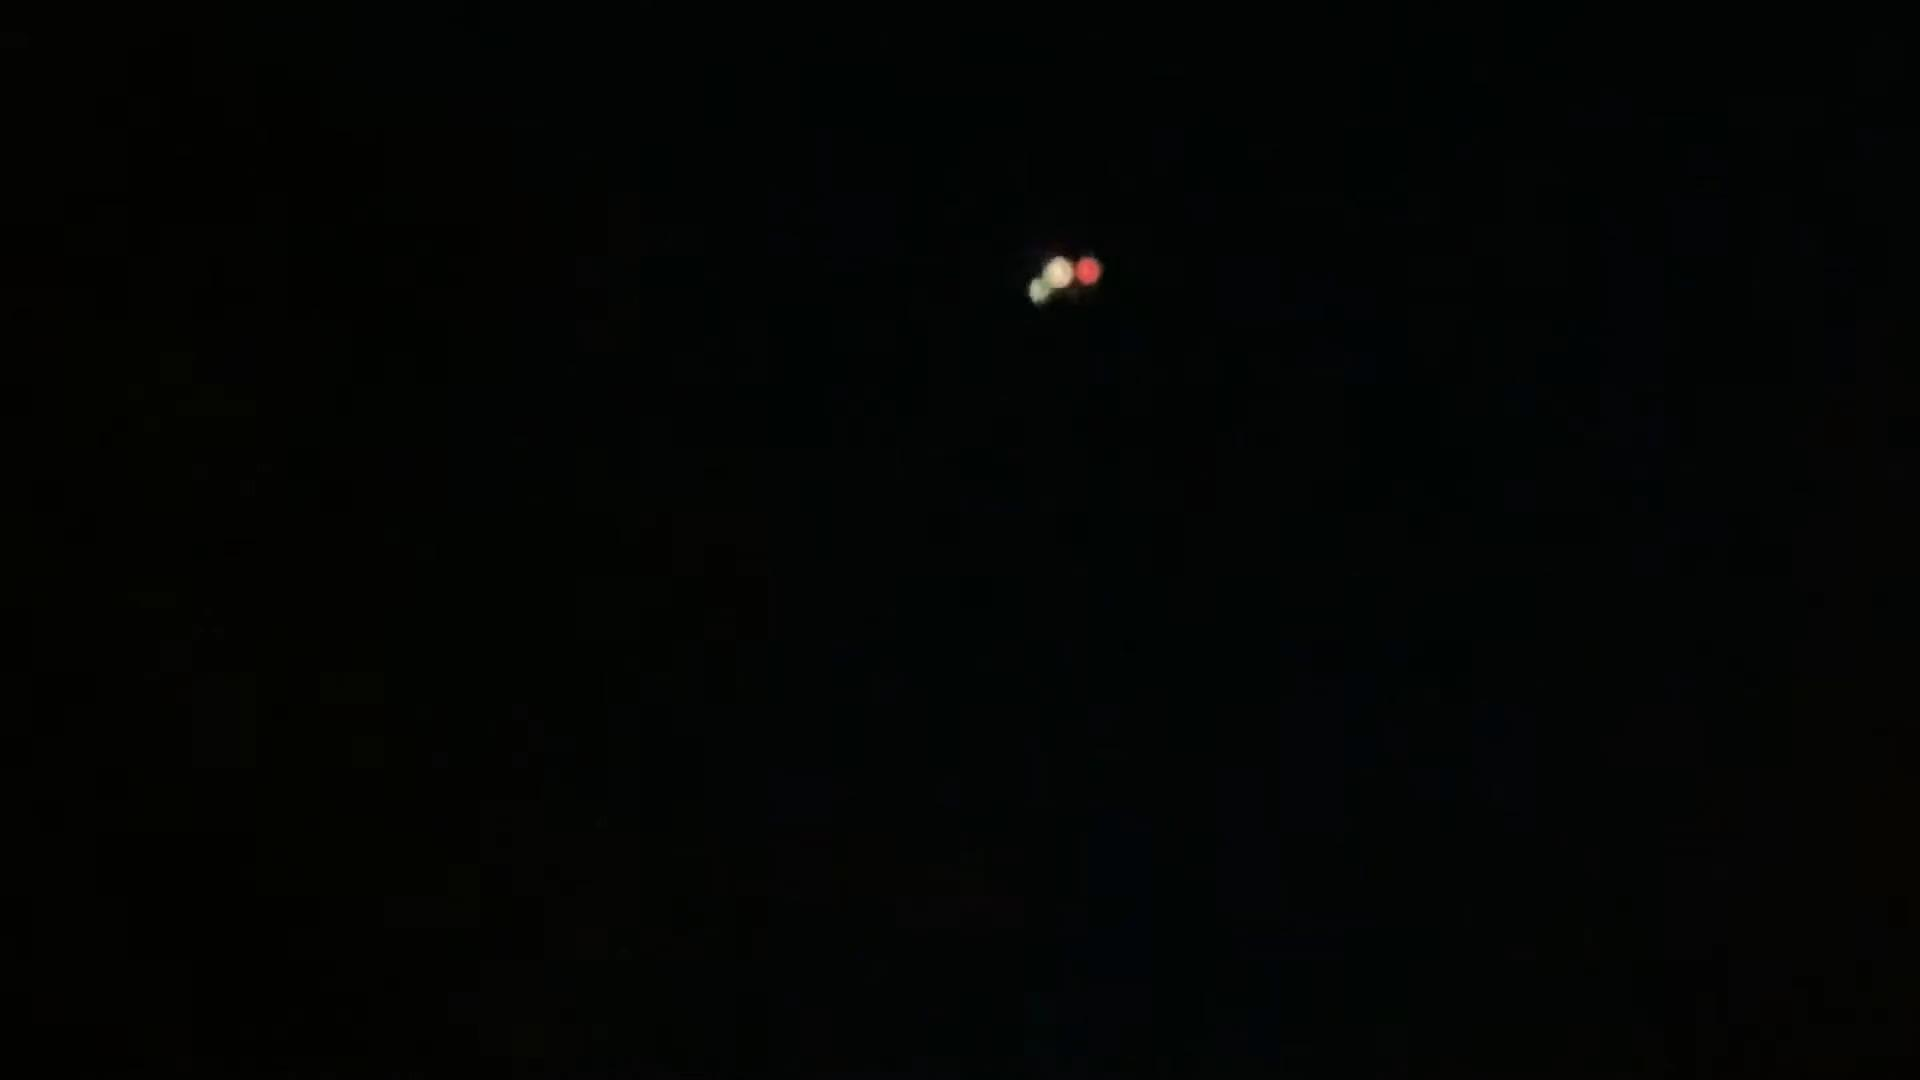Plane: (934, 232, 1185, 316)
